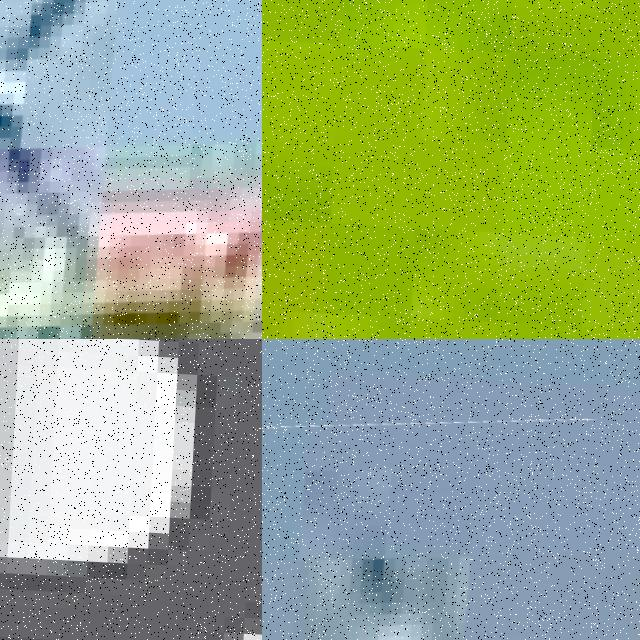drone: (262, 397, 640, 640), (0, 0, 262, 339)
